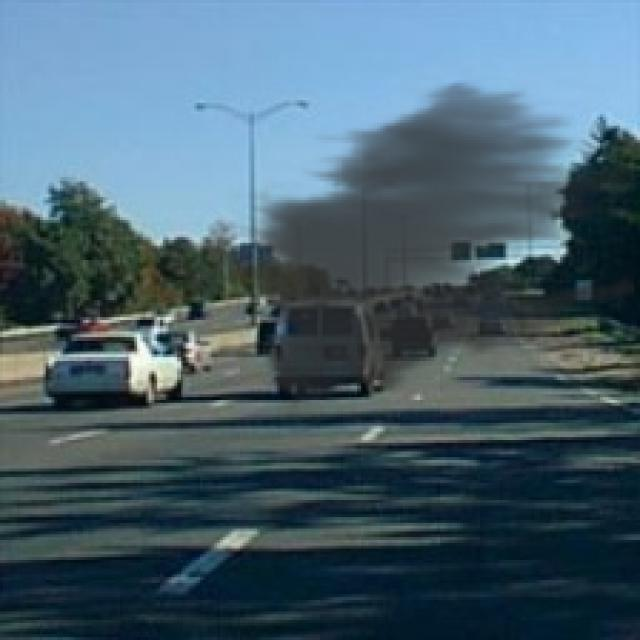Smoke: (228, 72, 634, 417)
